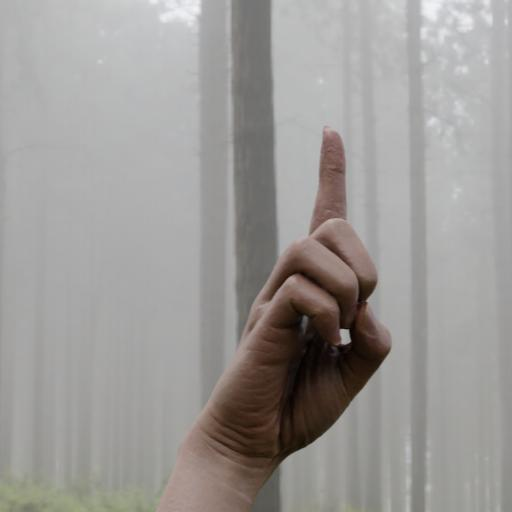D: (188, 120, 396, 509)
